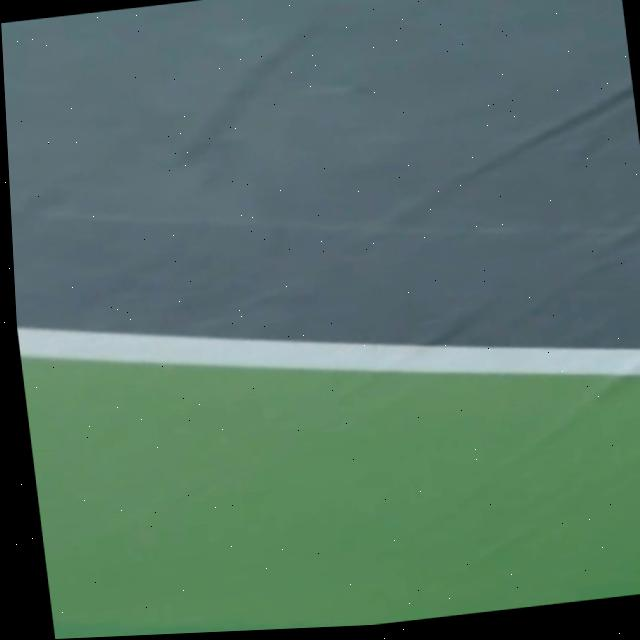right: (17, 325, 640, 372)
